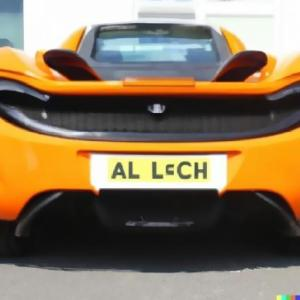Plate: (91, 153, 227, 192)
